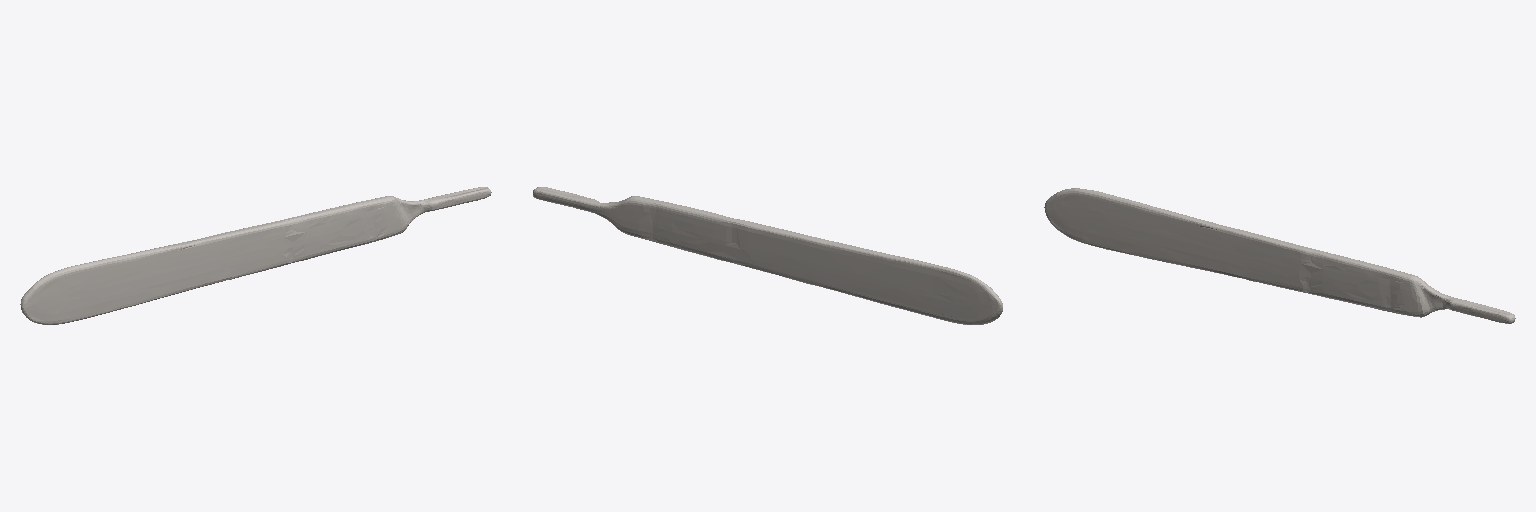
robot.urdf — Tooling_16:
<?xml version="1.0" encoding="utf-8"?>
<!-- This URDF was automatically created by SolidWorks to URDF Exporter! Originally created by Stephen Brawner (brawner@gmail.com)
     Commit Version: 1.6.0-4-g7f85cfe  Build Version: 1.6.7995.38578
     For more information, please see http://wiki.ros.org/sw_urdf_exporter -->
<robot
  name="Tooling_16">
  <link
    name="base_link">
    <inertial>
      <origin
        xyz="-2.5992E-05 -2.8272E-05 3.1426E-05"
        rpy="0 0 0" />
      <mass
        value="0.026264" />
      <inertia
        ixx="2.8791E-07"
        ixy="-1.4722E-07"
        ixz="-8.5586E-08"
        iyy="2.5093E-05"
        iyz="3.9771E-09"
        izz="2.5348E-05" />
    </inertial>
    <visual>
      <origin
        xyz="0 0 0"
        rpy="0 0 0" />
      <geometry>
        <mesh
          filename="../meshes/base_link.STL" />
      </geometry>
      <material
        name="">
        <color
          rgba="0.77647 0.75686 0.73725 1" />
      </material>
    </visual>
    <collision>
      <origin
        xyz="0 0 0"
        rpy="0 0 0" />
      <geometry>
        <mesh
          filename="../meshes/base_link.STL" />
      </geometry>
    </collision>
  </link>
</robot>

--- Facts derived from the render (not from the file) ---
The picture shows the robot from 3 angles, left to right: view 1: azimuth 30°, elevation 25°; view 2: azimuth 150°, elevation 25°; view 3: azimuth 330°, elevation 25°; orthographic projection.
Robot: Tooling_16 — 1 links, 0 joints (none); root link base_link; default pose: every joint at zero.
Visible links, largest first — view 1: base_link; view 2: base_link; view 3: base_link.
Link boxes in pixels (x1,y1,x2,y2): base_link: [20, 187, 491, 324]; base_link: [533, 187, 1002, 324]; base_link: [1044, 188, 1515, 323].
Size in the robot's own frame: 0.1268 by 0.0036 by 0.0139 metres.
Meshes: 1 distinct files referenced, 1 mesh visuals loaded (1 binary STL).
